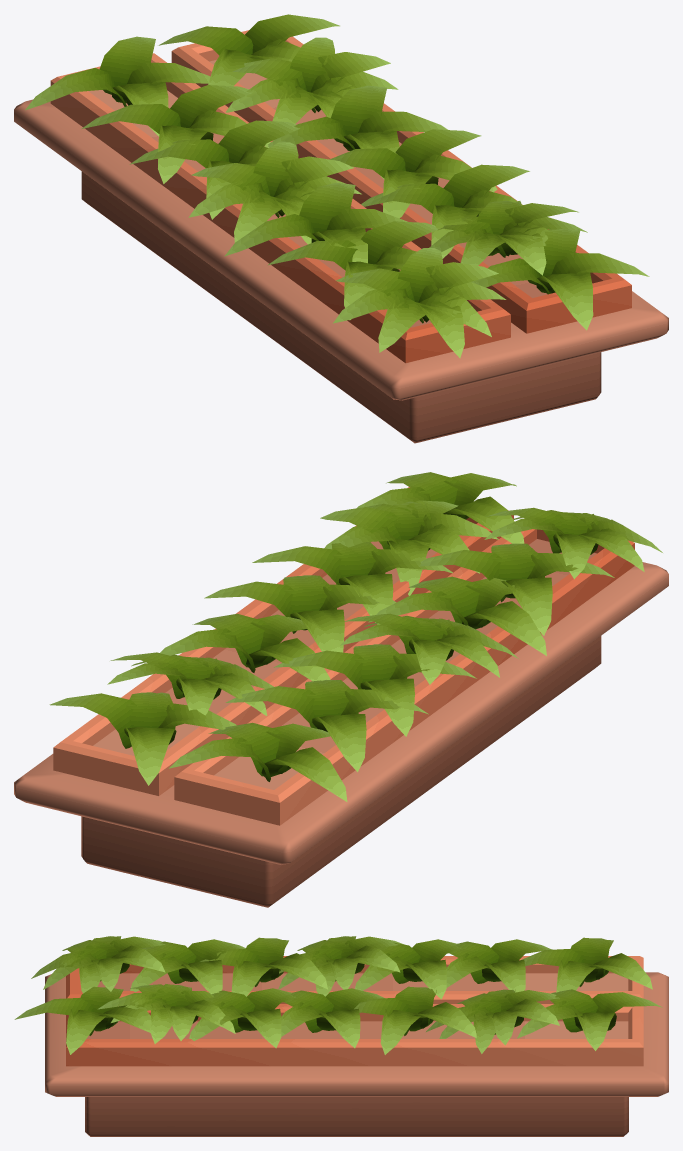
File: SM_Table_02.fbx
3 renders of one model, top to bottom at view 1: azimuth 30°, elevation 25°; view 2: azimuth 150°, elevation 25°; view 3: azimuth 270°, elevation 25°, orthographic. The views are drawn at different scales.
Visible parts, largest first — view 1: SM_Table_02; view 2: SM_Table_02; view 3: SM_Table_02.
Boxes of the visible parts, bbox=[...] form: SM_Table_02: bbox=[14, 14, 668, 443]; SM_Table_02: bbox=[14, 472, 668, 907]; SM_Table_02: bbox=[14, 936, 668, 1136].
Size of the model in its own units: 227 by 110 by 514.
Materials: 1 (1 with a texture image).
